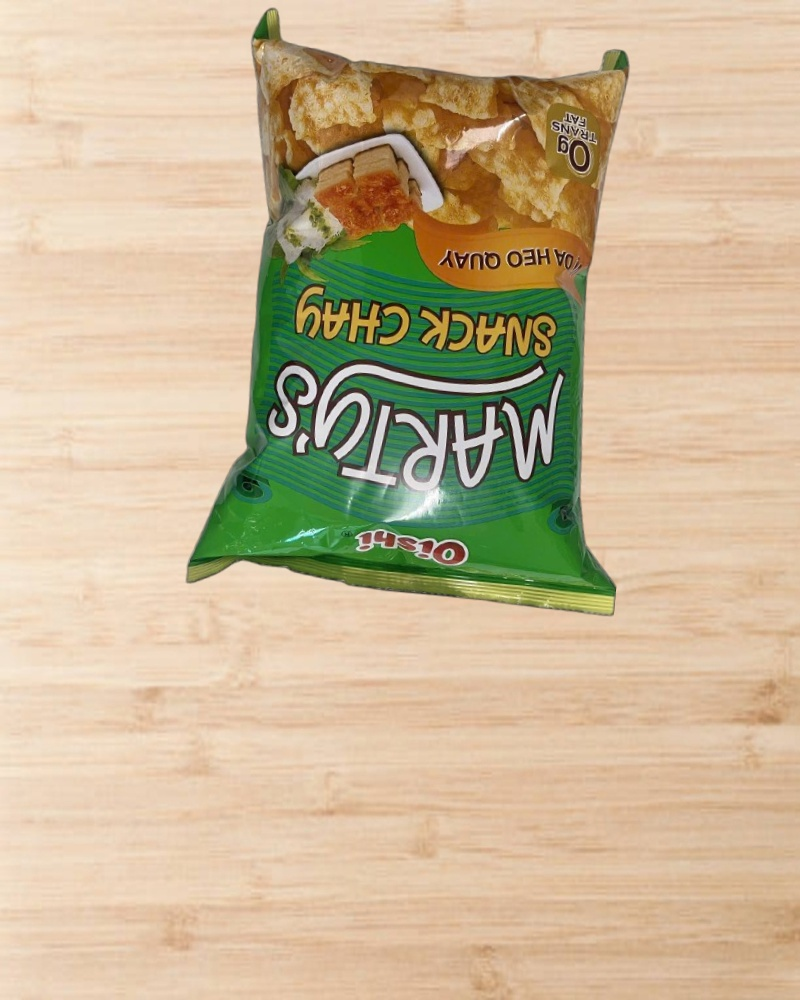Snack chay: (207, 9, 663, 621)
